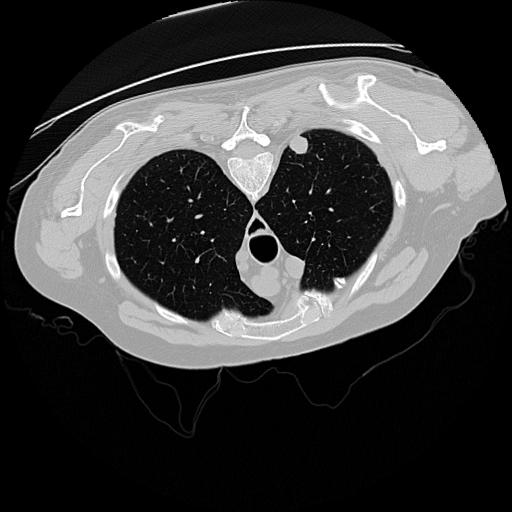nodule: (287, 132, 316, 161)
